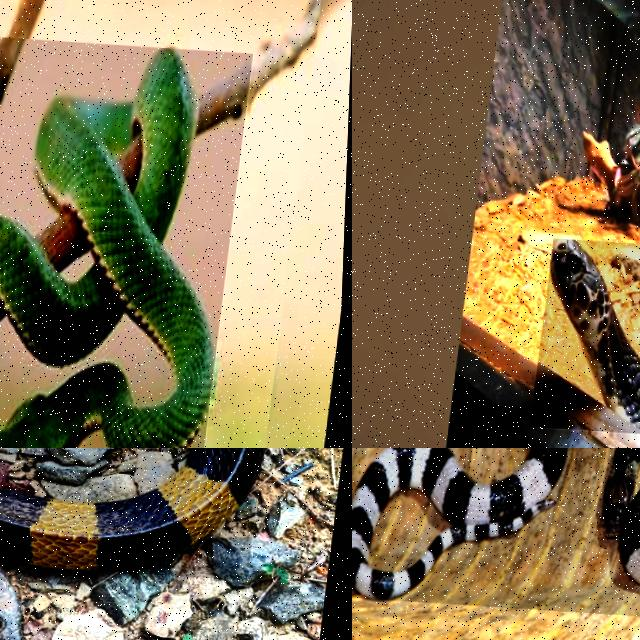Bungarus candidus: (352, 448, 567, 599)
Bungarus fasciatus: (0, 448, 262, 569)
Naja siamensis: (550, 240, 639, 432)
Trimeresurus: (0, 49, 217, 447)
